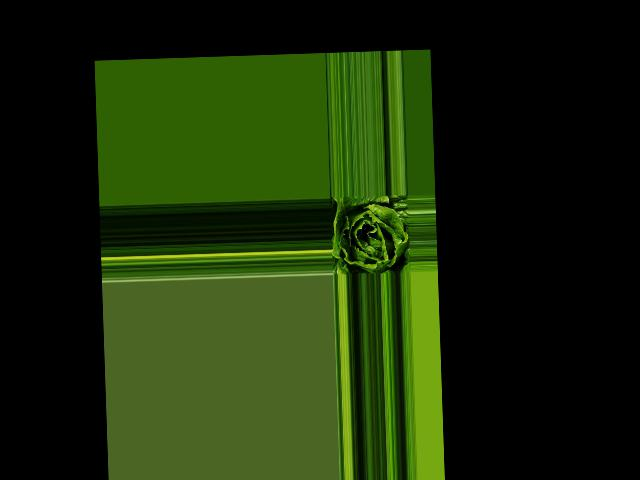lettuce: (331, 194, 409, 274)
